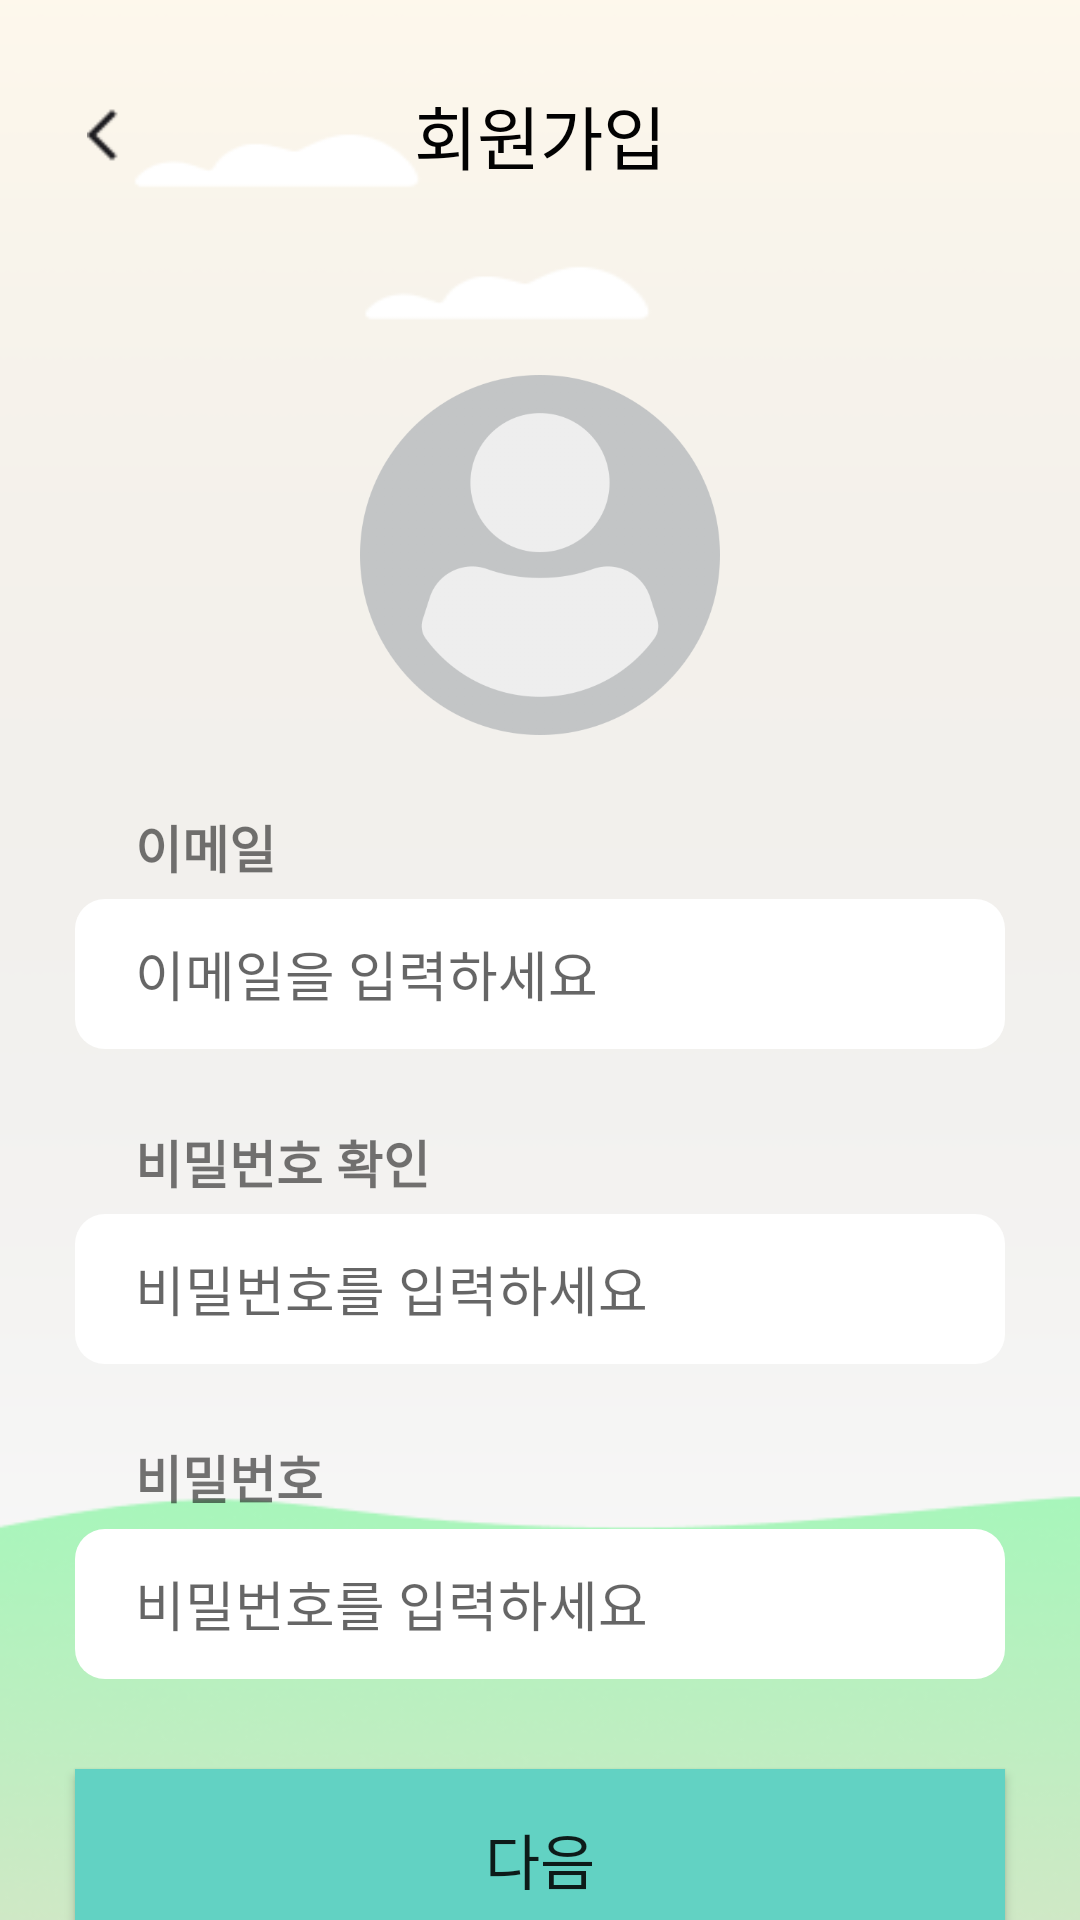

Named icons in this screenshot (1080px×1920px) and their bounding boxes, detection(x1, y1, x2, y2):
arrow back: detection(87, 109, 118, 161)
